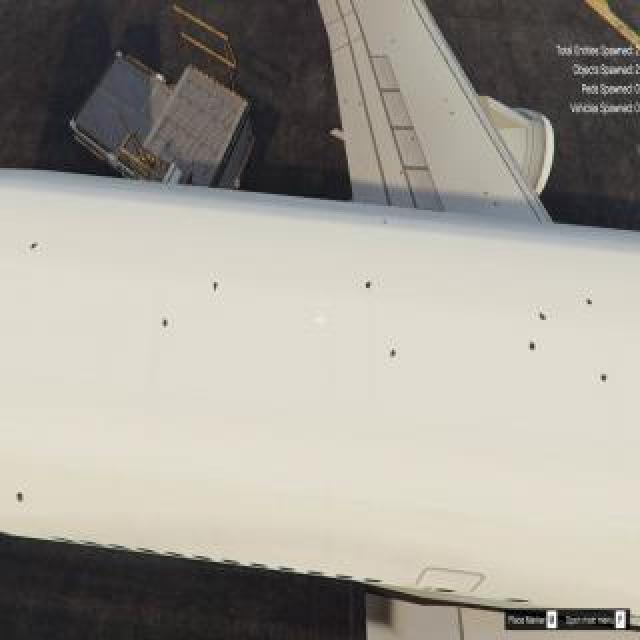crack: (16, 486, 26, 506), (390, 346, 400, 362), (538, 308, 548, 324), (366, 279, 374, 295), (529, 339, 537, 355), (601, 369, 609, 385), (30, 239, 40, 251), (162, 315, 170, 329), (586, 294, 594, 308), (212, 282, 220, 294), (382, 217, 392, 225), (494, 200, 502, 210), (485, 188, 489, 198), (400, 169, 404, 177), (345, 98, 349, 106), (392, 37, 396, 45), (451, 110, 455, 118), (343, 32, 347, 38), (445, 97, 449, 103), (412, 137, 416, 141), (359, 103, 363, 107)
